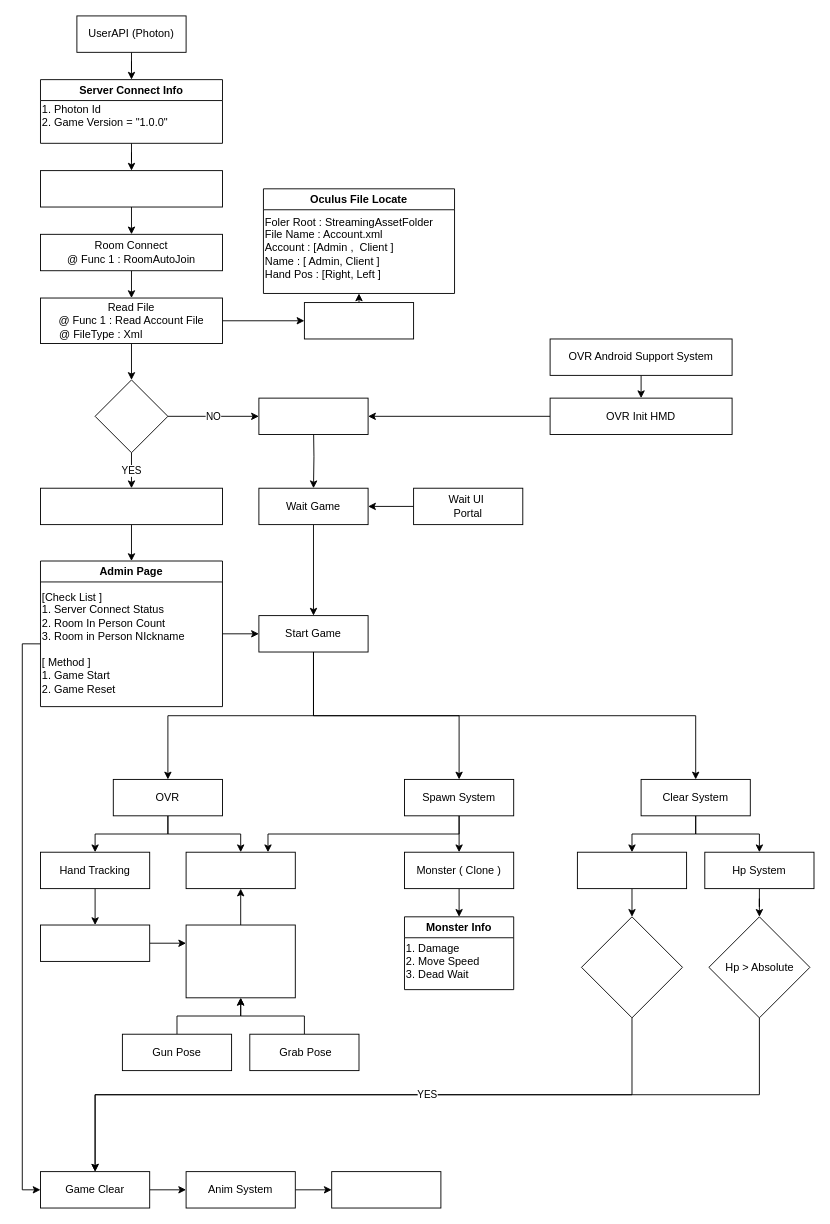
Some shapes in this 830 by 1224 pixel diagram are drawn without their labels. The shapes that lost their labels are listed below. From the top down, each one's centre as x and y in pixels, then its label:
At (x=131, y=188): "Server Connect @ Func 1 : ServerConnect".
At (x=358, y=320): "Oculus File System".
At (x=131, y=416): "Admin?".
At (x=313, y=416): "Game Client".
At (x=131, y=506): "Admin Page Load".
At (x=240, y=870): "Hand ( Clone )".
At (x=631, y=870): "Timer System".
At (x=95, y=942): "Detect Pose".
At (x=240, y=961): "Detect Pose.cs @ Func : Send Anim".
At (x=631, y=967): "Timer > Absolute".
At (x=386, y=1189): "Black Out".
